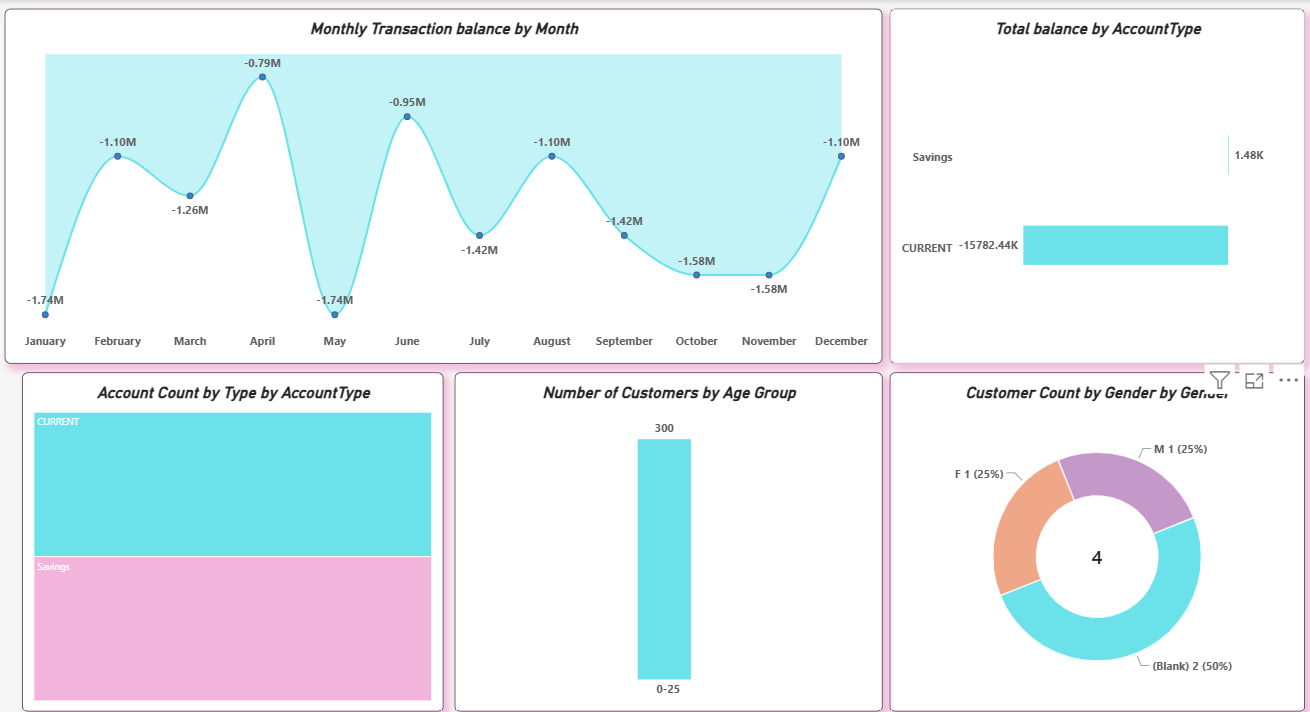

What the dashboard file says about the page in this screenshot:
{"tool":"powerbi","page":{"name":"Page 2","canvas":[1920,1080],"ordinal":1},"visuals":[{"type":"donutChart","fields":{"Category":["CombinedBankingDataset.Gender"],"Y":["Measures (2).Customer Count by Gender"]},"box":[1293.9,539.3,600.8,492.2],"z":0},{"type":"columnChart","title":"Number of Customers by Age Group","fields":{"Category":["CombinedBankingDataset.Customer Age Group"],"Y":["CountNonNull(CombinedBankingDataset.CustomerID)"]},"box":[664.1,539.3,589.9,492.2],"z":1000},{"type":"treemap","fields":{"Group":["CombinedBankingDataset.AccountType"],"Values":["Measures (2).Account Count by Type"]},"box":[38,539.3,597.2,492.2],"z":1001},{"type":"barChart","fields":{"Category":["CombinedBankingDataset.AccountType"],"Y":["Measures (2).Total balance"]},"box":[1293.9,12.7,600.8,490.4],"z":1002},{"type":"areaChart","fields":{"Category":["CombinedBankingDataset.TransactionDate.Variation.Date Hierarchy.Month"],"Y":["Measures (2).Monthly Transaction balance"]},"box":[12.7,12.7,1270.4,490.4],"z":1003}]}

Visuals, with their boxes on the page's 1920x1080 design canvas (x1, y1, x2, y2). These are canvas units, not pixel positions in the 1310x712 screenshot, which may show the page scaled, cropped or inside an application window:
donutChart - CombinedBankingDataset.Gender x Measures (2).Customer Count by Gender: (1294,539,1895,1032)
"Number of Customers by Age Group" columnChart: (664,539,1254,1032)
treemap - CombinedBankingDataset.AccountType x Measures (2).Account Count by Type: (38,539,635,1032)
barChart - CombinedBankingDataset.AccountType x Measures (2).Total balance: (1294,13,1895,503)
areaChart - CombinedBankingDataset.TransactionDate.Variation.Date Hierarchy.Month x Measures (2).Monthly Transaction balance: (13,13,1283,503)
